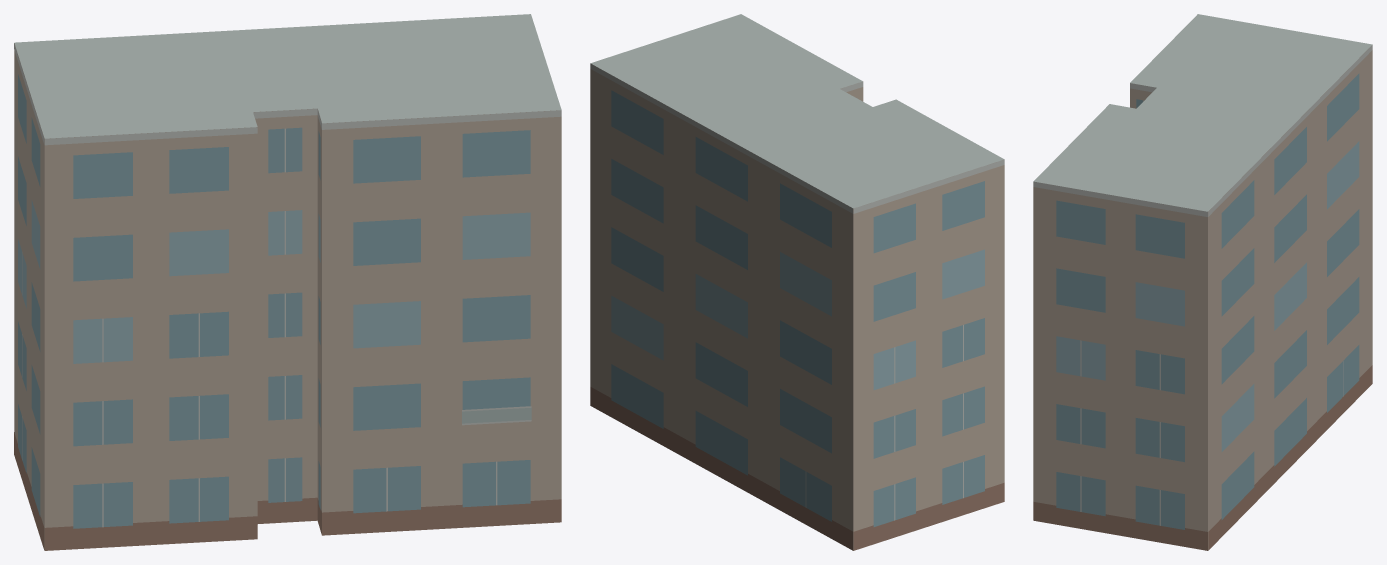
File: survey-upis-32868216.glb
3 views of the same model, side by side, from view 1: azimuth 30°, elevation 25°; view 2: azimuth 150°, elevation 25°; view 3: azimuth 270°, elevation 25° (orthographic). The views are drawn at different scales.
Visible parts, largest first — view 1: survey-upis-32868216.tmp; view 2: survey-upis-32868216.tmp; view 3: survey-upis-32868216.tmp.
Part boxes in pixels (box(x1,y1,x2,y2)): survey-upis-32868216.tmp: box(14, 14, 561, 550); survey-upis-32868216.tmp: box(590, 14, 1004, 550); survey-upis-32868216.tmp: box(1033, 14, 1372, 550).
Size of the model in its own units: 19.08 by 15.25 by 13.84.
